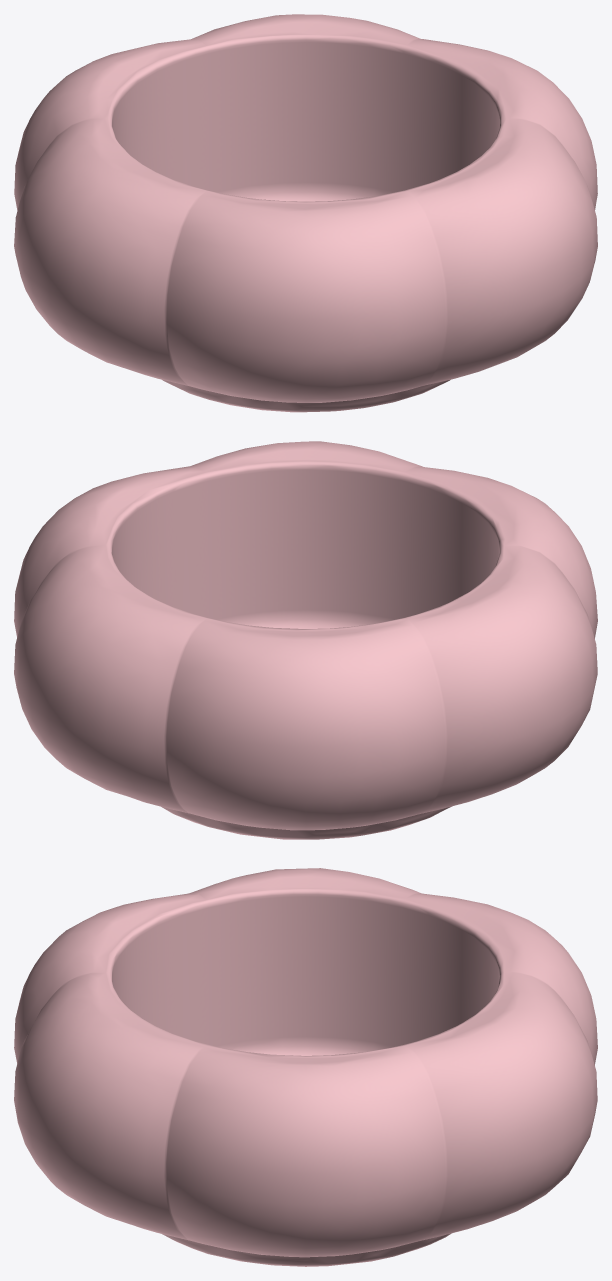
Rendered from bladfagel_swiecznik_na_tealighty_00607032.glb.
3 renders of one model, top to bottom at view 1: azimuth 30°, elevation 25°; view 2: azimuth 150°, elevation 25°; view 3: azimuth 270°, elevation 25°, orthographic.
Visible parts, largest first — view 1: bladfagel_swiecznik_na_tealighty_00607032; view 2: bladfagel_swiecznik_na_tealighty_00607032; view 3: bladfagel_swiecznik_na_tealighty_00607032.
Boxes of the visible parts, box(x1,y1,x2,y2) form: bladfagel_swiecznik_na_tealighty_00607032: box(14, 14, 597, 412); bladfagel_swiecznik_na_tealighty_00607032: box(14, 441, 597, 839); bladfagel_swiecznik_na_tealighty_00607032: box(14, 868, 597, 1266).
Bounding box in the file's own units: 0.0679 × 0.0275 × 0.0645.
Materials: 1 (1 with a texture image).
